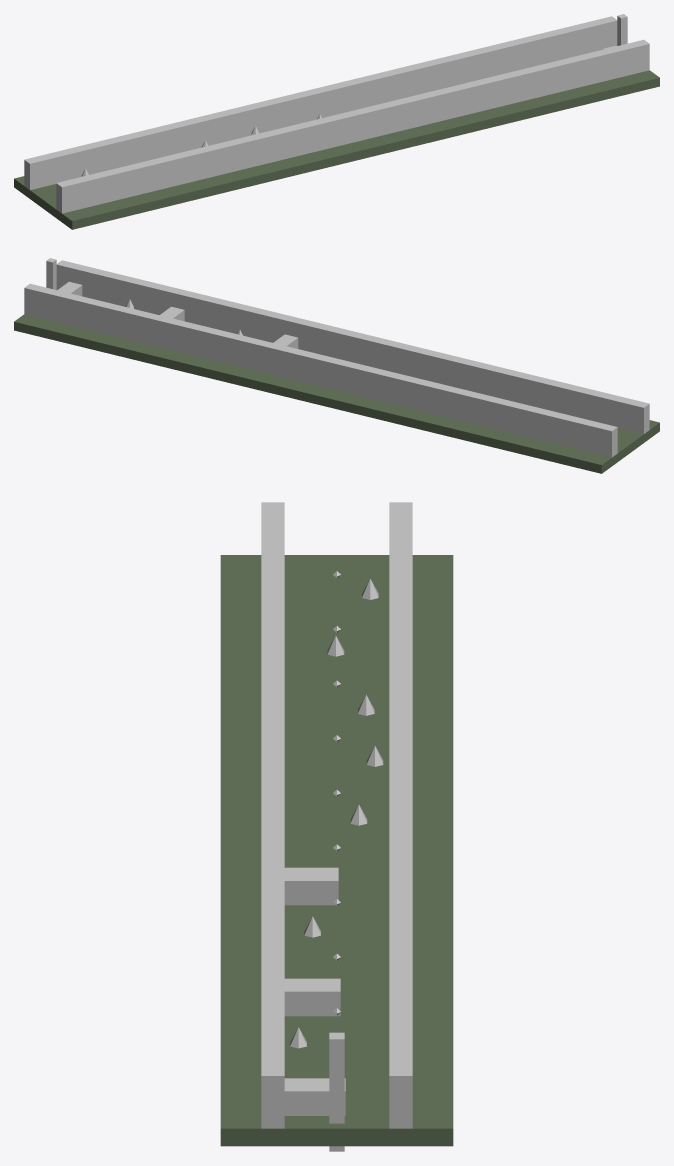
Rendered from layout_main.obj.
3 views of the same model, one above another, from view 1: azimuth 30°, elevation 25°; view 2: azimuth 150°, elevation 25°; view 3: azimuth 270°, elevation 25° (orthographic). The views are drawn at different scales.
Parts seen in each view (by area): view 1: walls, floor, goal; view 2: walls, floor, obstacles, goal; view 3: floor, walls, obstacles, goal.
Part boxes in pixels (x1=…): walls: x1=24, y1=16, x2=649, y2=213; floor: x1=14, y1=70, x2=659, y2=229; goal: x1=617, y1=14, x2=627, y2=45; walls: x1=24, y1=260, x2=649, y2=457; floor: x1=14, y1=314, x2=659, y2=473; obstacles: x1=57, y1=281, x2=298, y2=348; goal: x1=46, y1=258, x2=56, y2=289; floor: x1=220, y1=555, x2=453, y2=1146; walls: x1=261, y1=502, x2=412, y2=1128; obstacles: x1=284, y1=578, x2=383, y2=1115; goal: x1=329, y1=1032, x2=344, y2=1151.
Bounding box in the file's own units: 70 × 6.4 × 12.
